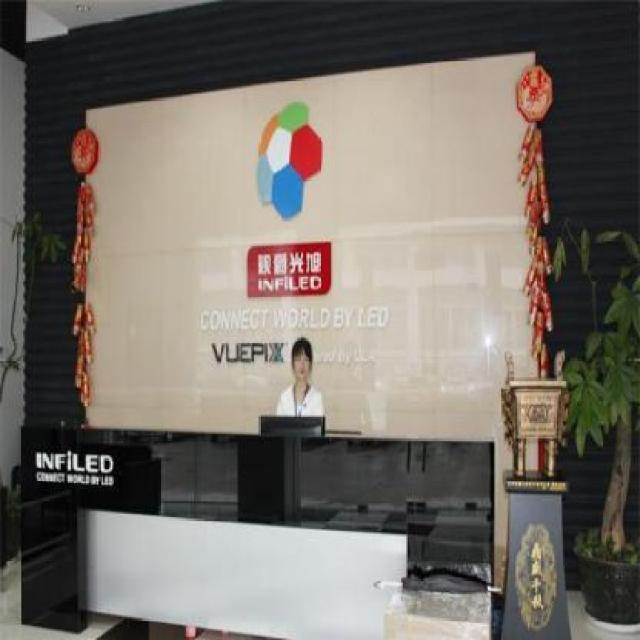frontdesk: (13, 403, 504, 640)
